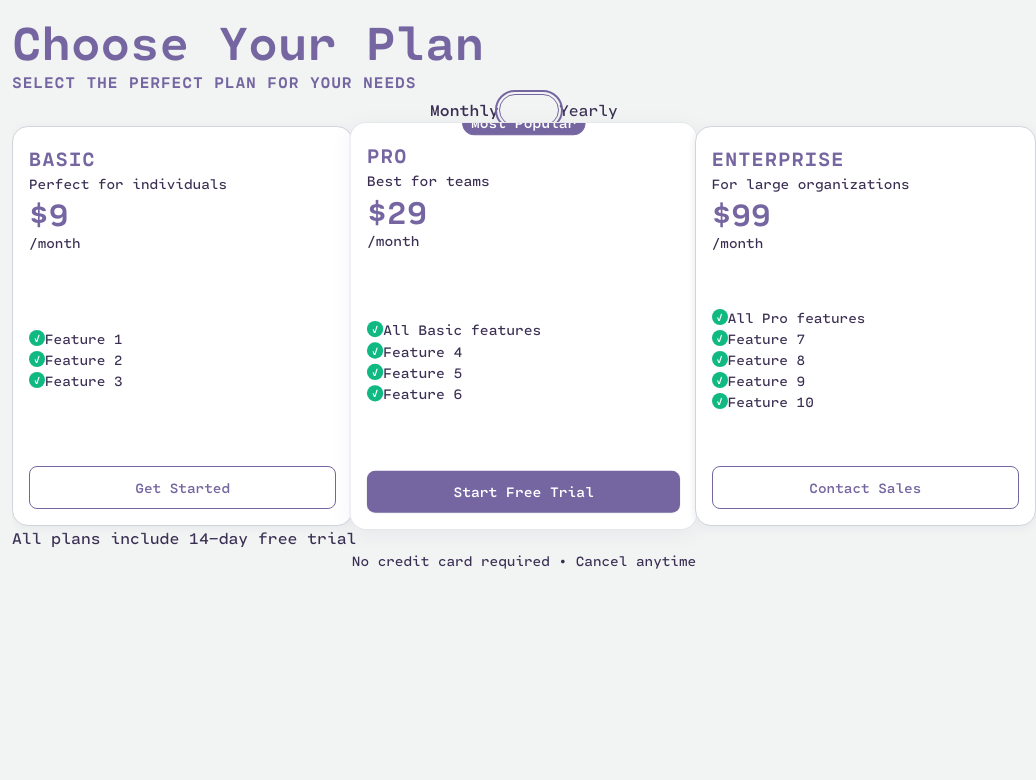
Test: PricingPage › keyboard navigation works correctly
What coordinates should you click on to do the following:
click the button named "yearly"
I would click on:
 (529, 110)
Its box is [499,94,559,126].
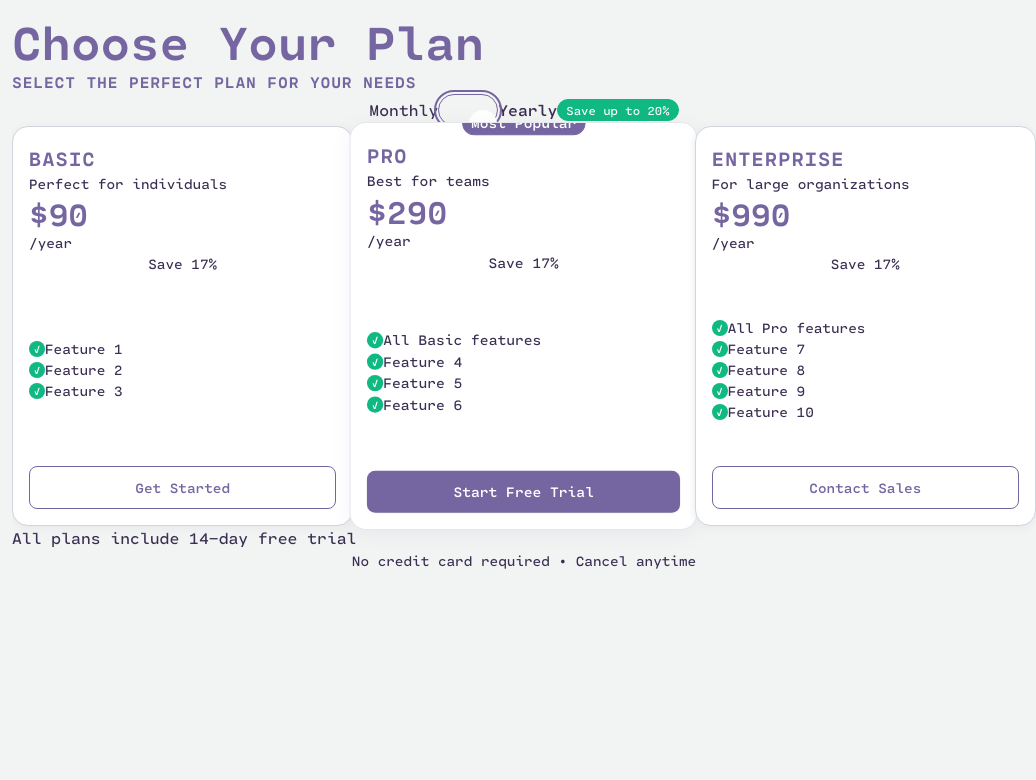
Check: the text "/year" below "$90" is shown, box [29,234,72,251]
